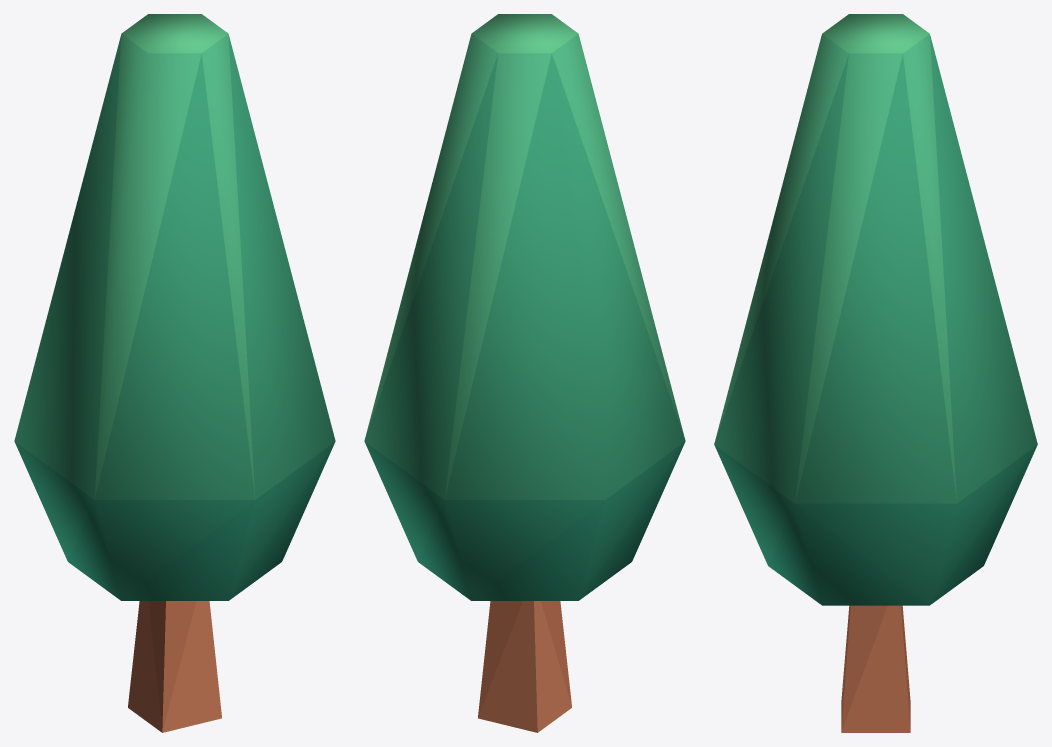
File: tree-small.obj
3 views of the same model, side by side, from view 1: azimuth 30°, elevation 25°; view 2: azimuth 150°, elevation 25°; view 3: azimuth 270°, elevation 25° (orthographic).
Size of the model in its own units: 0.2104 by 0.567 by 0.243.
